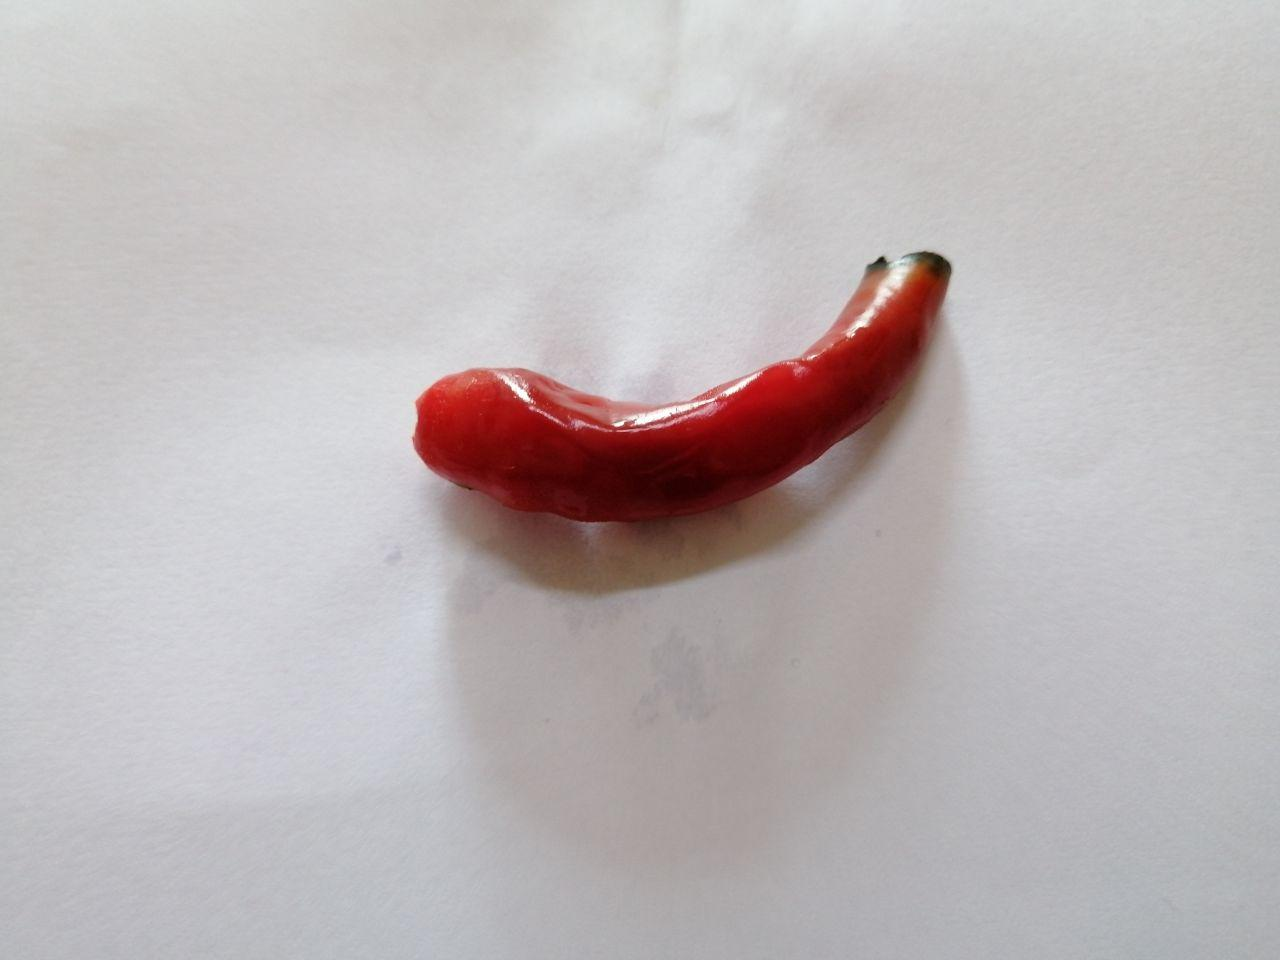lada merah: (391, 222, 965, 562)
